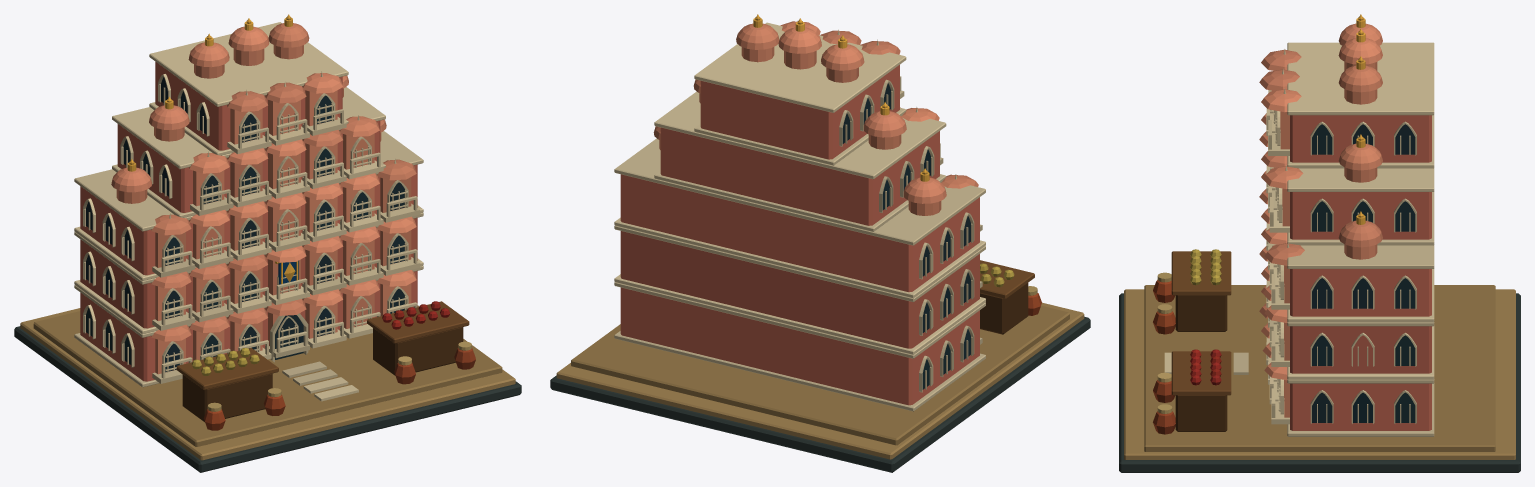
The model's file is market.glb.
The picture shows the model from 3 angles, left to right: view 1: azimuth 30°, elevation 25°; view 2: azimuth 150°, elevation 25°; view 3: azimuth 270°, elevation 25°; orthographic projection. The views are drawn at different scales.
Visible parts, largest first — view 1: market_structure, market_brass; view 2: market_structure; view 3: market_structure, market_brass.
Part boxes in pixels (x1,y1,x2,y2): market_structure: [14, 17, 521, 472]; market_brass: [127, 14, 298, 284]; market_structure: [550, 17, 1090, 472]; market_structure: [1119, 17, 1520, 472]; market_brass: [1356, 14, 1365, 224].
Size of the model in its own units: 5.6 by 5.55 by 5.6.
